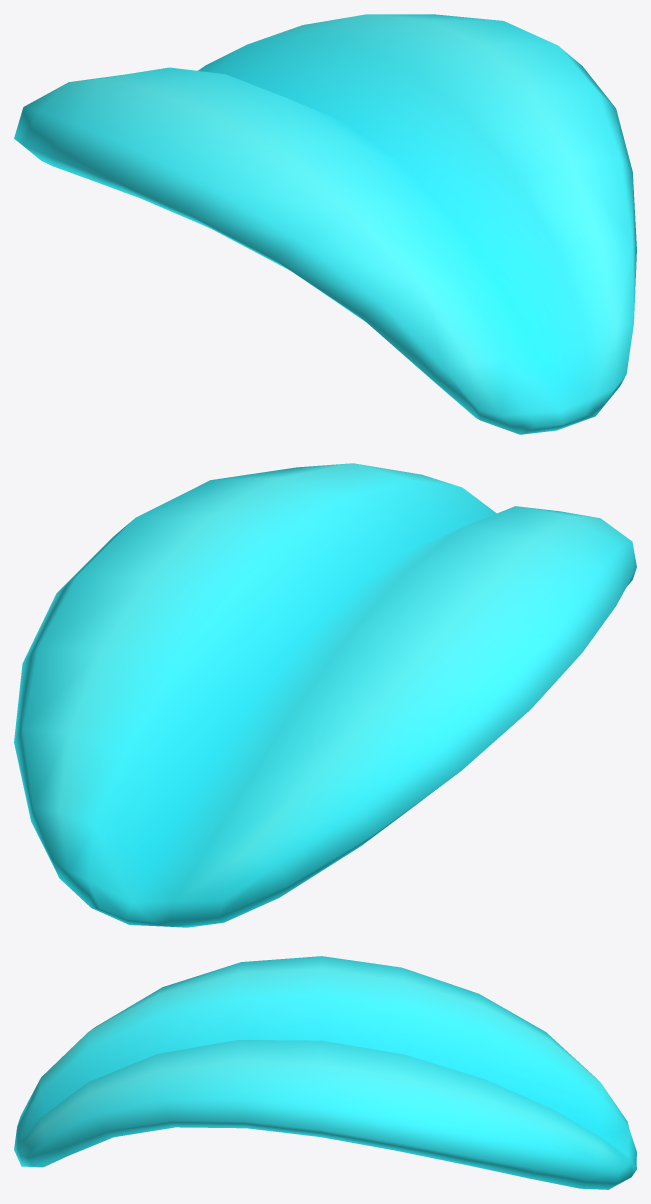
The model's file is Leaf_01.glb.
The picture shows the model from 3 angles, top to bottom: view 1: azimuth 30°, elevation 25°; view 2: azimuth 150°, elevation 25°; view 3: azimuth 270°, elevation 25°; orthographic projection. The views are drawn at different scales.
Visible parts, largest first — view 1: Leaf_01; view 2: Leaf_01; view 3: Leaf_01.
Part boxes in pixels (x1,y1,x2,y2): Leaf_01: (14,14,636,434); Leaf_01: (14,463,636,927); Leaf_01: (14,956,636,1189).
Bounding box in the file's own units: 1.59 × 0.701 × 2.54.
1 material, 1 textured.
